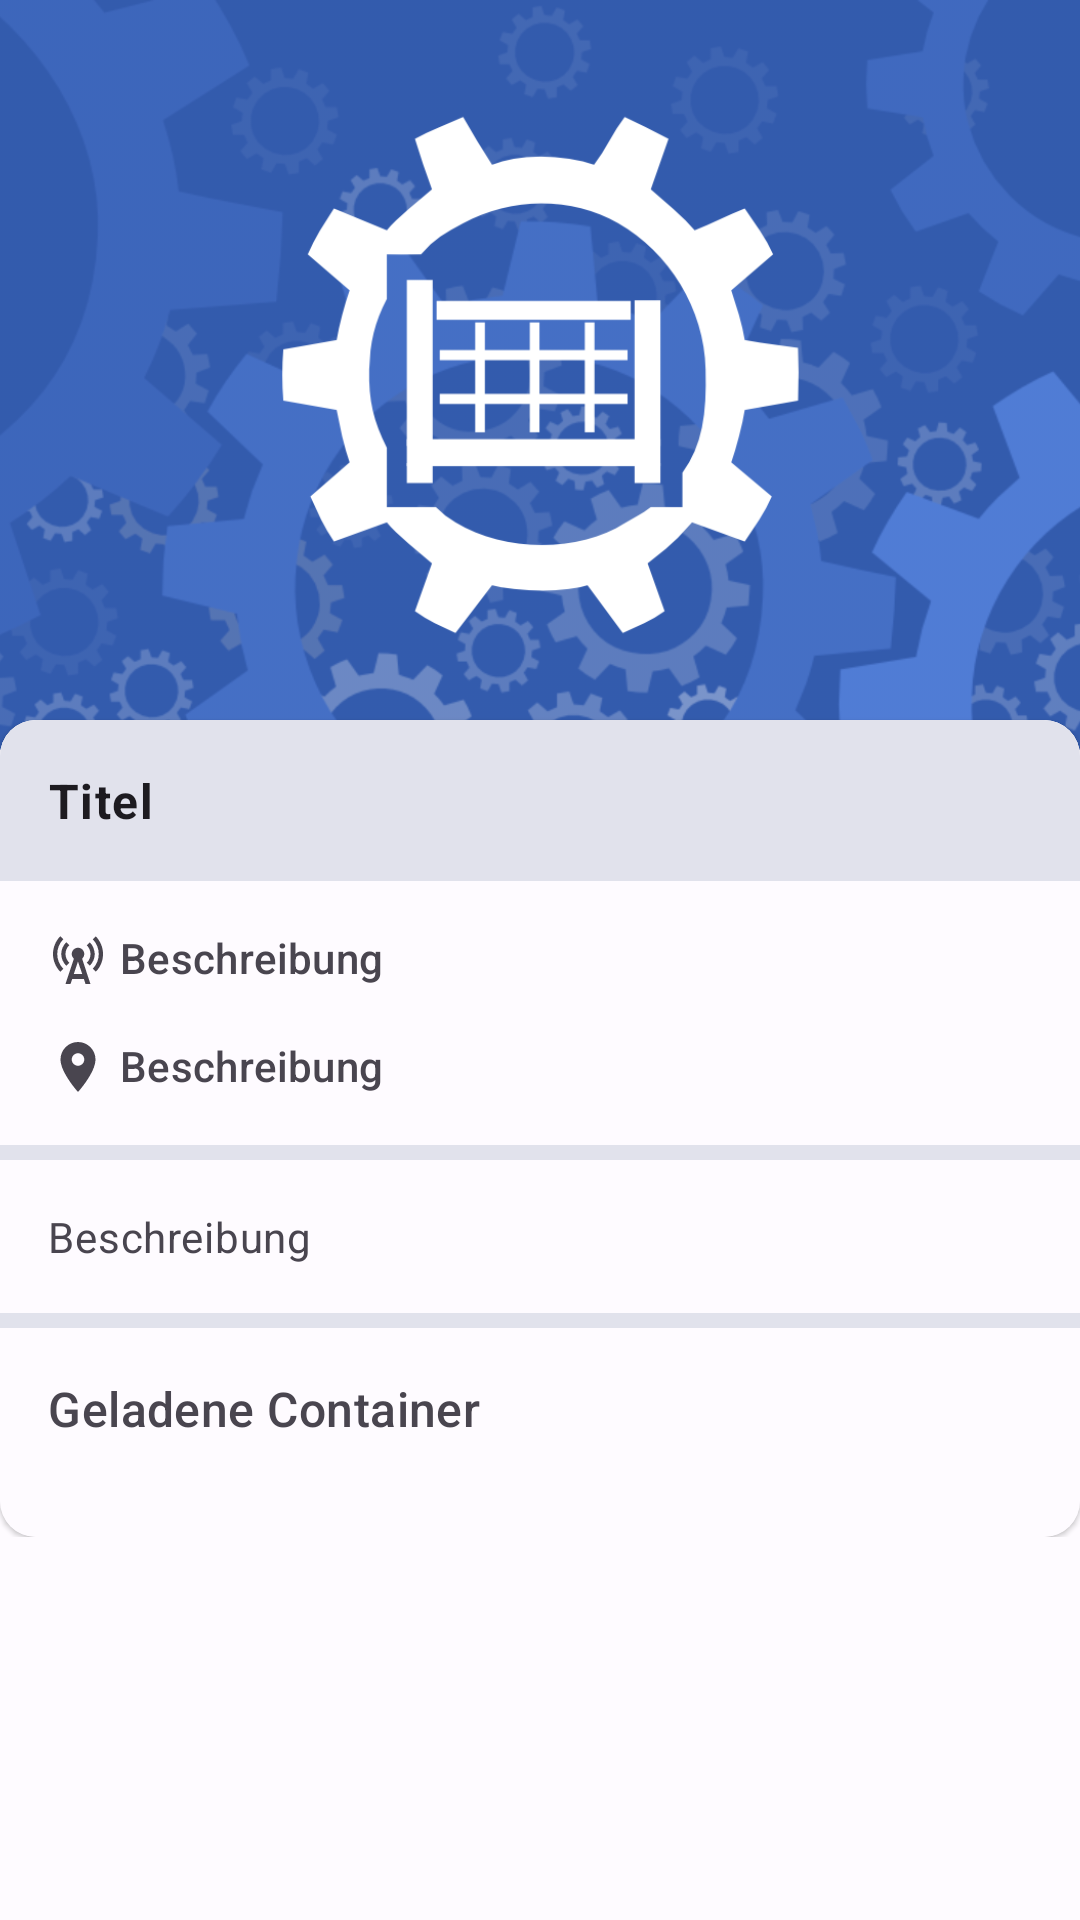

Named icons in this screenshot (1080x1920) and their centers, point (x, y):
cell tower: point (78, 960)
location on: point (78, 1067)
